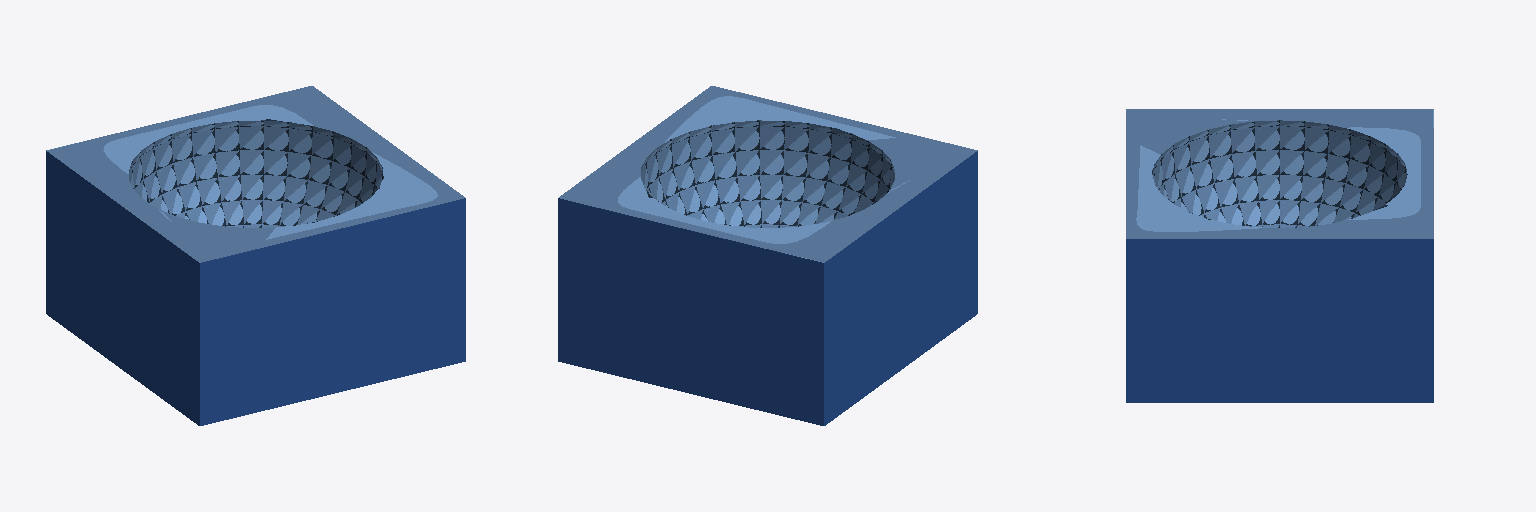
The picture shows the model from 3 angles: view 1: azimuth 30°, elevation 25°; view 2: azimuth 150°, elevation 25°; view 3: azimuth 270°, elevation 25°; orthographic projection.
Visible parts, largest first — view 1: Plane; view 2: Plane; view 3: Plane.
Part boxes in pixels (bbox=[...]): Plane: bbox=[46, 86, 465, 425]; Plane: bbox=[558, 86, 977, 425]; Plane: bbox=[1126, 109, 1433, 402].
Size of the model in its own units: 2 by 1.17 by 2.
2 materials, 1 textured.